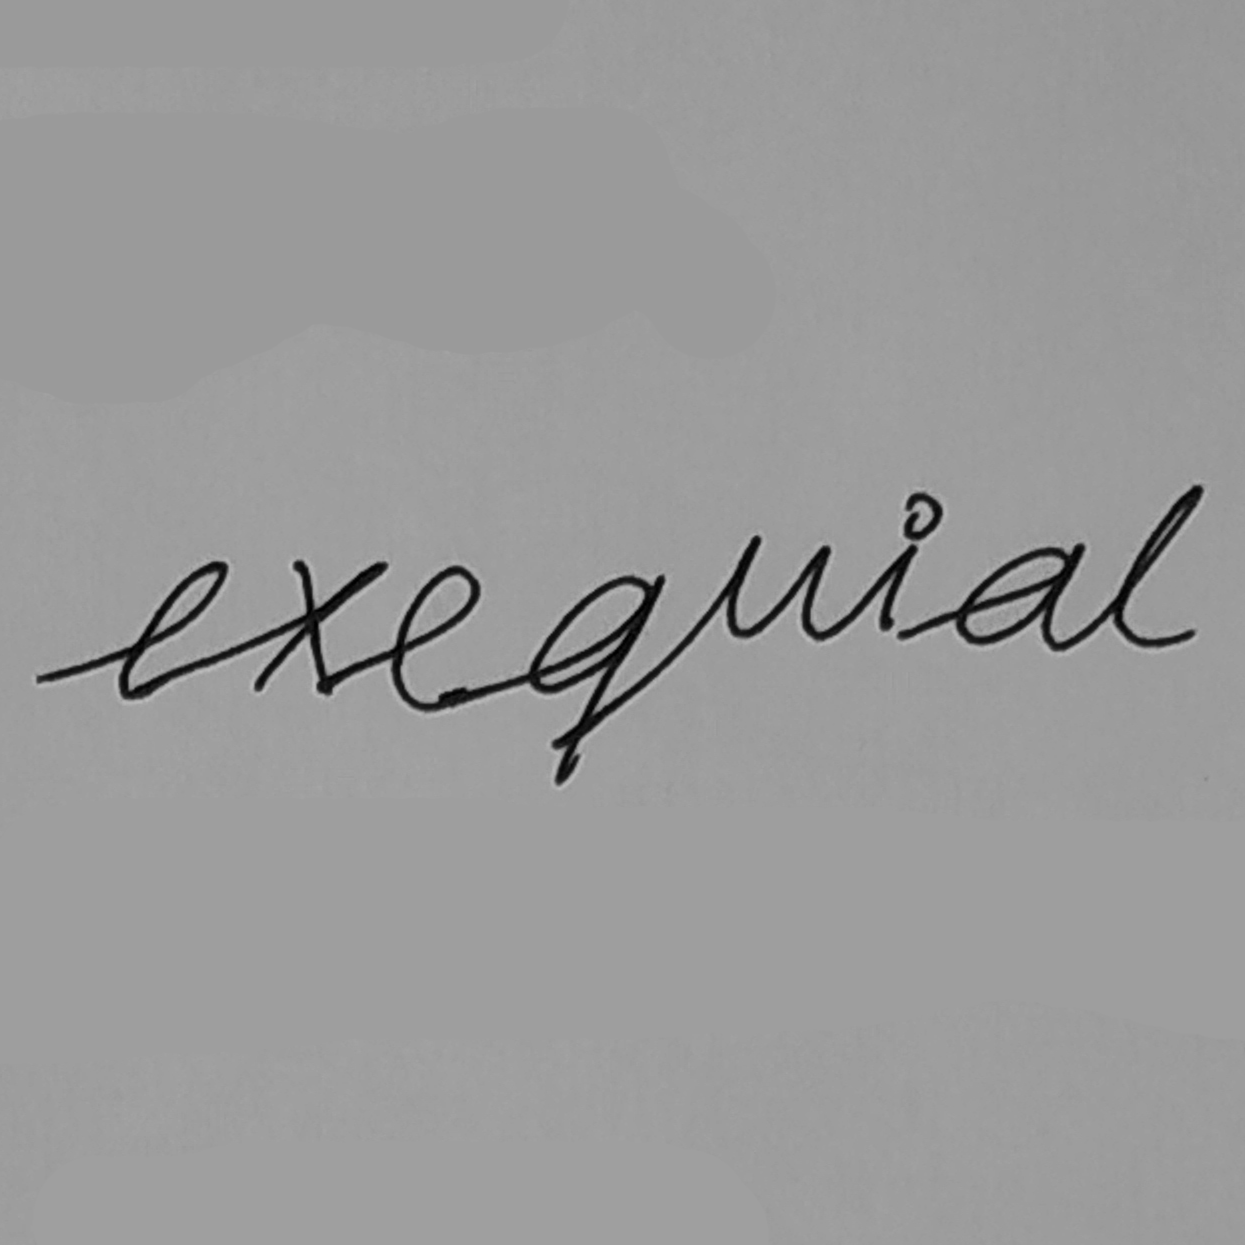a: (950, 535, 1091, 654)
e: (115, 553, 230, 711), (391, 560, 485, 721)
i: (870, 487, 946, 641)
l: (1107, 478, 1207, 650)
q: (518, 568, 668, 786)
u: (719, 531, 837, 646)
x: (250, 552, 389, 703)
